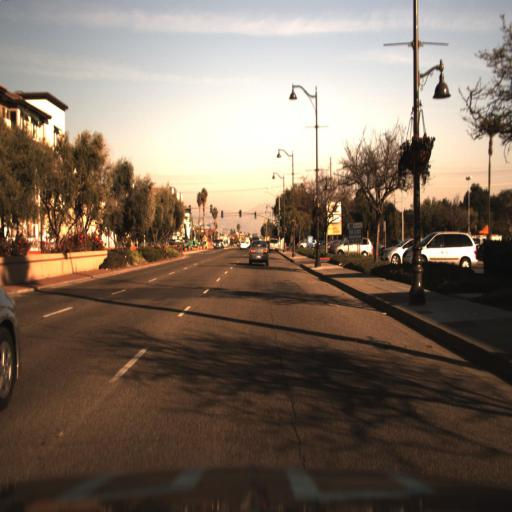car: (399, 218, 484, 274), (400, 226, 481, 270), (329, 231, 377, 264), (334, 233, 377, 260), (378, 234, 415, 264), (384, 238, 409, 275), (244, 237, 271, 268), (266, 236, 281, 258)
